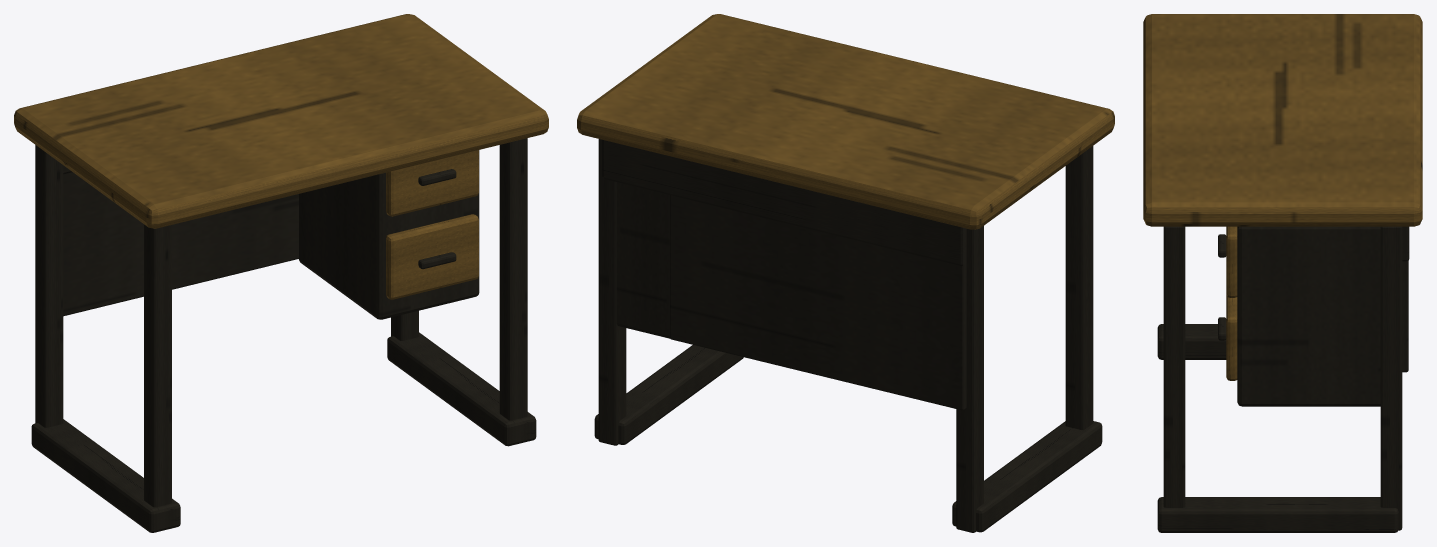
The model's file is office-desk.glb.
The picture shows the model from 3 angles, left to right: view 1: azimuth 30°, elevation 25°; view 2: azimuth 150°, elevation 25°; view 3: azimuth 270°, elevation 25°; orthographic projection.
Parts seen in each view (by area): view 1: SM_backrooms_office_desk_WornDeskLaminate, SM_backrooms_office_desk_DeskOxidizedMetal; view 2: SM_backrooms_office_desk_DeskOxidizedMetal, SM_backrooms_office_desk_WornDeskLaminate; view 3: SM_backrooms_office_desk_WornDeskLaminate, SM_backrooms_office_desk_DeskOxidizedMetal.
Part boxes in pixels (x1,y1,x2,y2): SM_backrooms_office_desk_WornDeskLaminate: (14,14,548,299); SM_backrooms_office_desk_DeskOxidizedMetal: (31,138,536,532); SM_backrooms_office_desk_DeskOxidizedMetal: (594,139,1102,532); SM_backrooms_office_desk_WornDeskLaminate: (577,14,1114,229); SM_backrooms_office_desk_WornDeskLaminate: (1143,14,1422,380); SM_backrooms_office_desk_DeskOxidizedMetal: (1157,226,1409,532).
Size of the model in its own units: 0.96 by 0.76 by 0.58.
2 materials, 2 textured.
